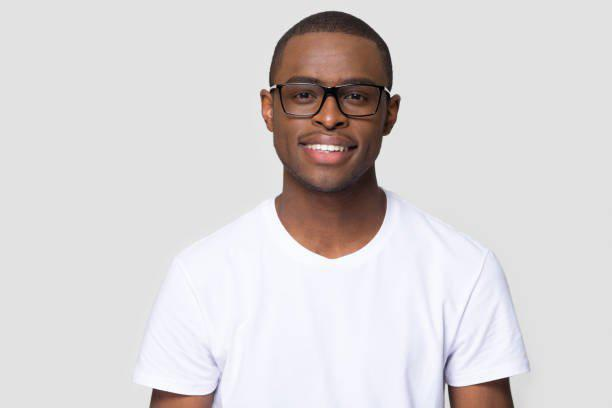Sober: (266, 39, 387, 171)
